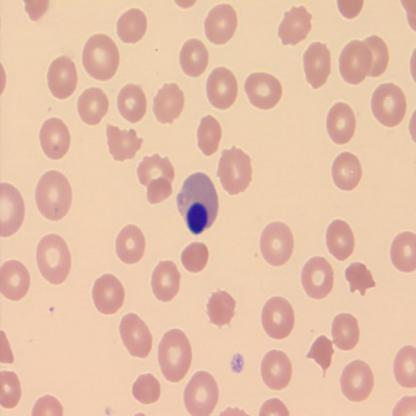NRC: (185, 200, 211, 238)
